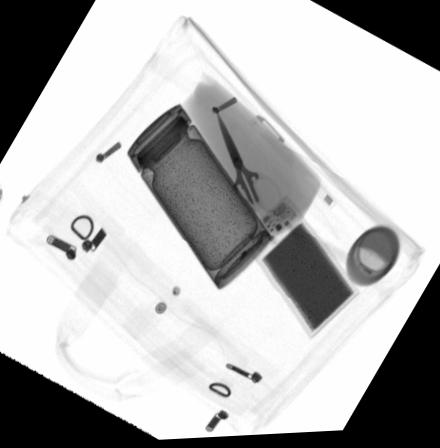Powerbank: (240, 196, 362, 345)
Scissors: (214, 110, 285, 245)
